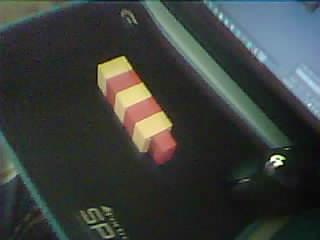lego: (98, 55, 177, 164)
